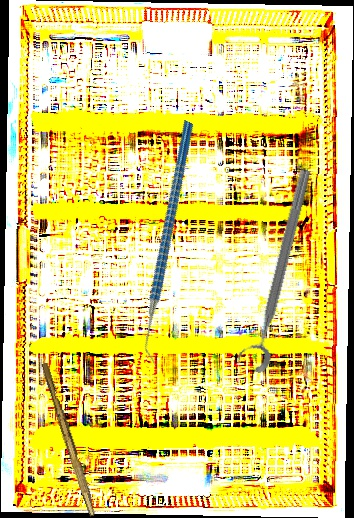Chopper: (71, 119, 272, 367)
Fixation Ring: (232, 164, 318, 375)
Scalpel Handle: (37, 362, 101, 517)
